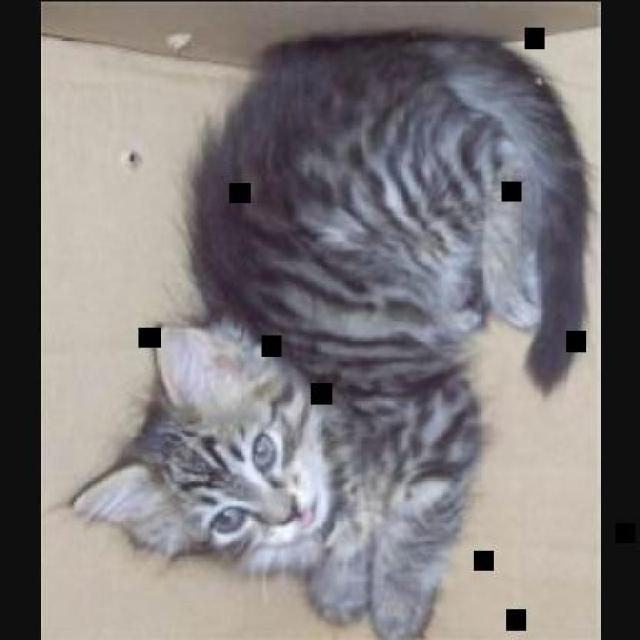unauthorized: (68, 27, 589, 638)
